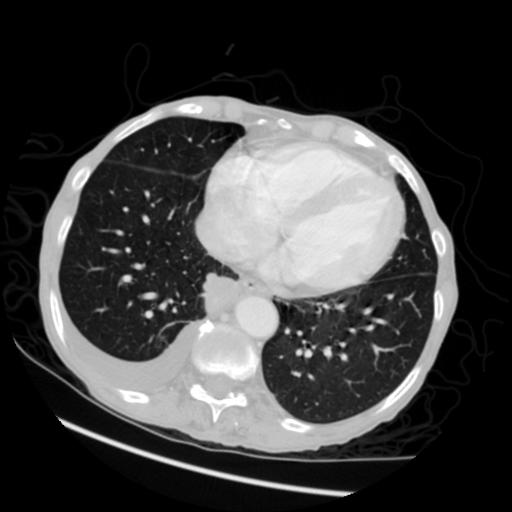nodule: (192, 266, 246, 320)
